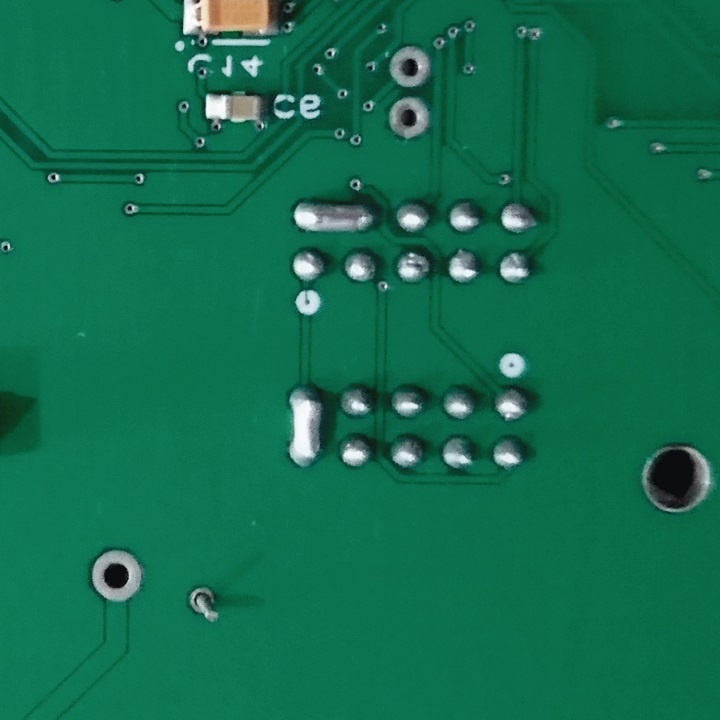F: (87, 546, 146, 605), (387, 95, 434, 149), (386, 45, 433, 89), (185, 582, 227, 623)
P: (285, 380, 327, 475), (289, 195, 378, 236)
